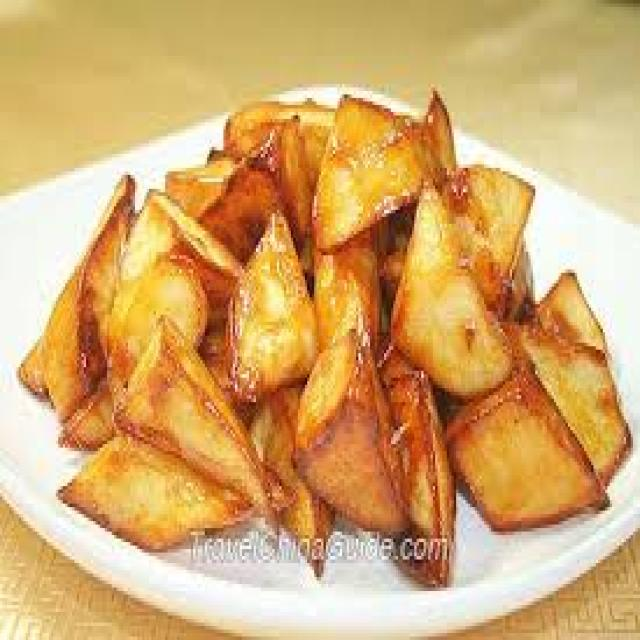Potato: (21, 94, 626, 581)
